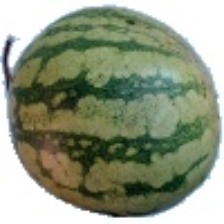watermelon: (24, 45, 189, 220)
